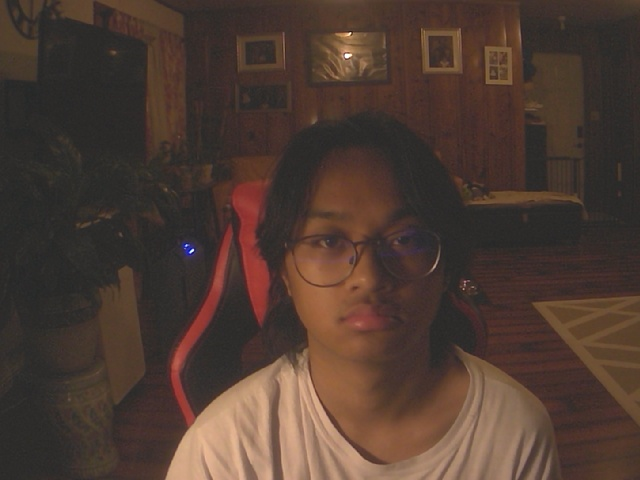neutral: (252, 108, 472, 377)
